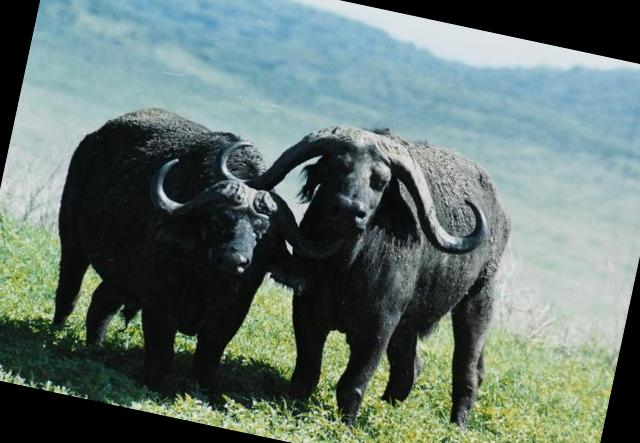Buffalo: (26, 44, 566, 443)
